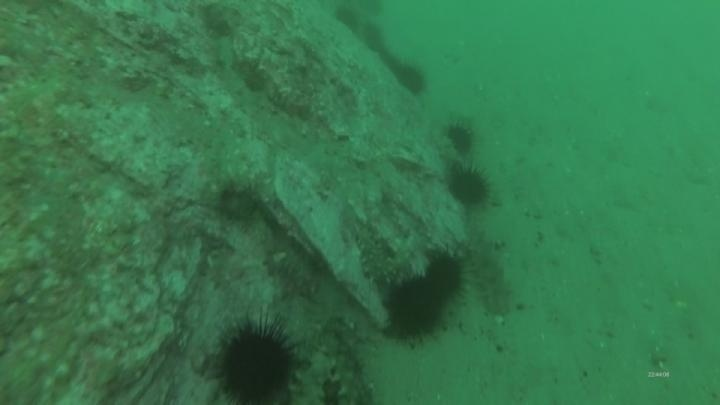echinus: (211, 315, 301, 404), (380, 272, 449, 342), (422, 250, 468, 303), (445, 163, 493, 209), (391, 61, 429, 98), (443, 120, 477, 157), (331, 5, 364, 35), (358, 21, 387, 54)
holothurian: (326, 329, 376, 405), (469, 239, 516, 317), (349, 222, 400, 287), (287, 346, 340, 405)
